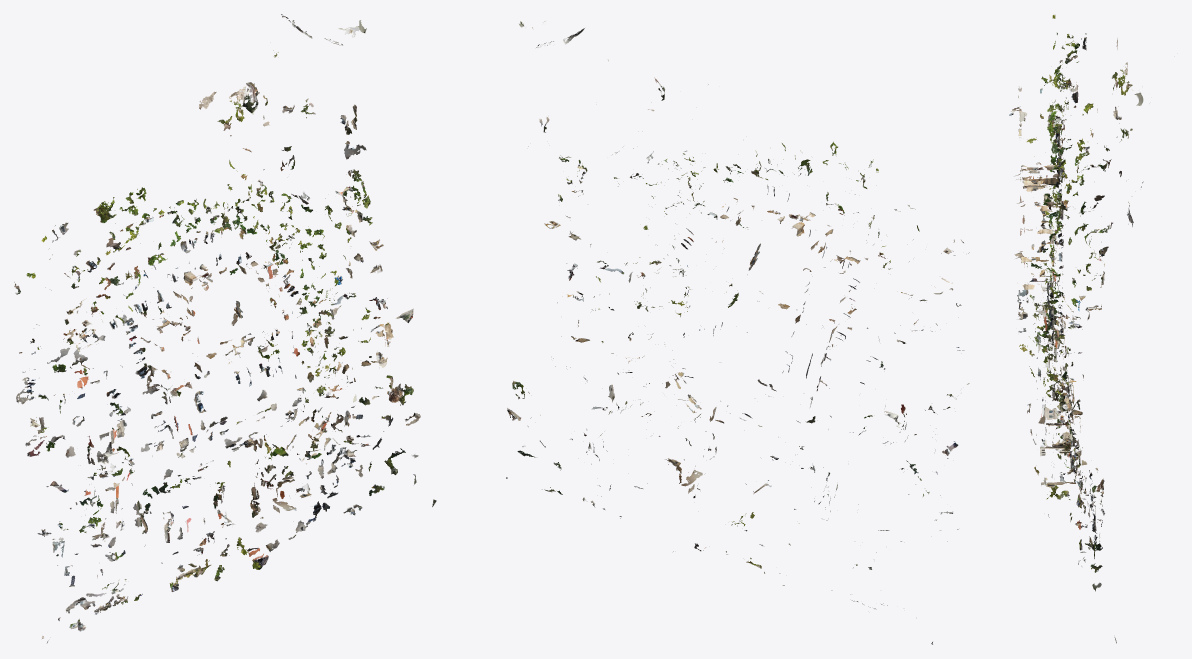
Rendered from tile_2.glb.
3 views of the same model, side by side, from view 1: azimuth 30°, elevation 25°; view 2: azimuth 150°, elevation 25°; view 3: azimuth 270°, elevation 25° (orthographic). The views are drawn at different scales.
Size of the model in its own units: 219 by 246 by 67.86.
6 materials, 6 textured.
